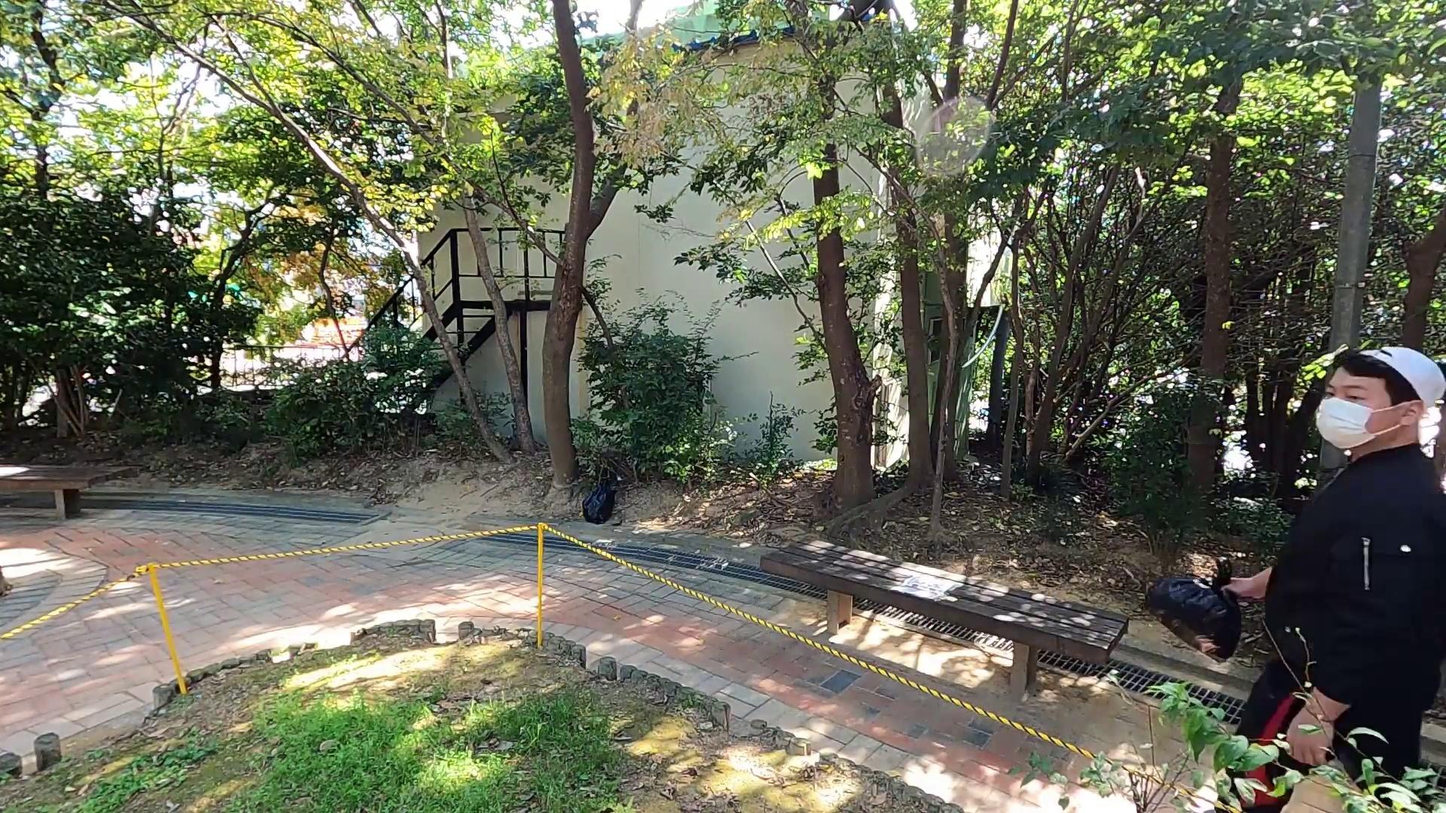person: (1184, 333, 1446, 813)
trash: (1125, 543, 1249, 681), (560, 470, 622, 532)
